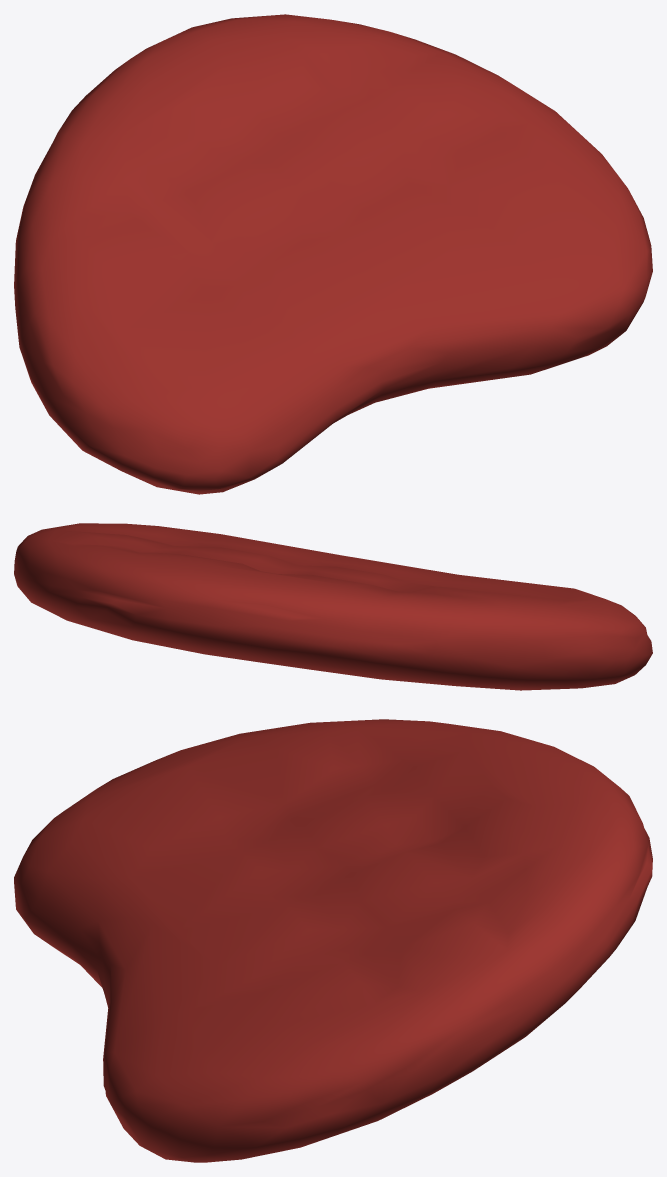
The model's file is Food (10).fbx.
3 renders of one model, top to bottom at view 1: azimuth 30°, elevation 25°; view 2: azimuth 150°, elevation 25°; view 3: azimuth 270°, elevation 25°, orthographic. The views are drawn at different scales.
Parts seen in each view (by area): view 1: Cube; view 2: Cube; view 3: Cube.
Boxes of the visible parts, x1,y1,x2,y2 form: Cube: [14, 14, 652, 494]; Cube: [14, 523, 652, 690]; Cube: [14, 719, 652, 1162].
Size of the model in its own units: 11.88 by 4.03 by 9.27.
